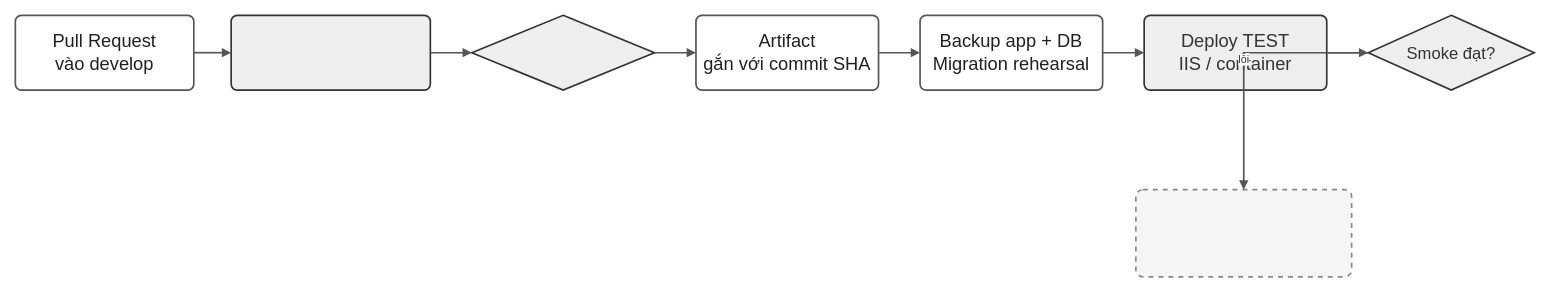
This 1549x291 diagram has some shape labels left out. The box of each missing label's shape, as (x1, y1, x2, y2) in pixels:
CI .NET + Angular + Compose: (230, 14, 431, 90)
CI đạt?: (471, 14, 655, 90)
Nếu lỗi: rollback app DB restore/forward-fix: (1135, 188, 1352, 277)
